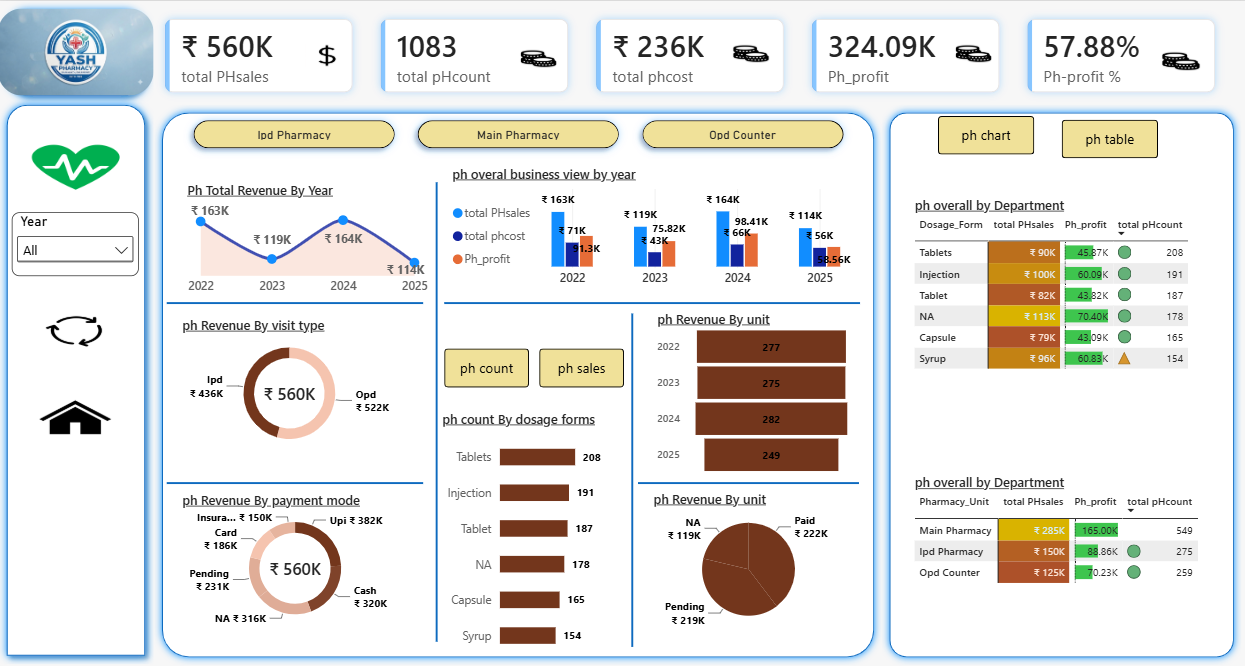

The page's visual inventory and layout, read from the dashboard file:
{"tool":"powerbi","page":{"name":"Pharmacy","canvas":[1300,700],"ordinal":1},"visuals":[{"type":"shape","box":[0,98.8,161.9,590.5],"z":0},{"type":"shape","box":[0,0,161.9,107.2],"z":1000},{"type":"shape","box":[161.9,107.1,756,582.1],"z":2000},{"type":"shape","box":[917.9,107.1,373.8,582.1],"z":3000},{"type":"cardVisual","fields":{"Data":["Pharmacy_Sales.total PHsales","Pharmacy_Sales.total pHcount","Pharmacy_Sales.total phcost","Pharmacy_Sales.Ph_profit","Pharmacy_Sales.Ph-profit %"]},"box":[161.9,8.3,1117.9,98.8],"z":4000},{"type":"image","box":[14.3,107.1,132.1,129.8],"z":6000},{"type":"image","box":[36.9,394,86.9,77.4],"z":7000},{"type":"image","box":[36.9,303.6,86.9,77.4],"z":8000},{"type":"image","box":[0,8.3,161.9,90.5],"z":9000},{"type":"slicer","fields":{"Values":["calendar_table.year"]},"box":[14.3,219,132.1,66.7],"z":10000},{"type":"lineChart","title":"Ph Total Revenue By Year","fields":{"Category":["calendar_table.Date.Variation.Date Hierarchy.Year","calendar_table.Date.Variation.Date Hierarchy.Month","calendar_table.Date.Variation.Date Hierarchy.Day"],"Y":["Pharmacy_Sales.total PHsales"]},"box":[181,172.6,282.1,152.4],"z":11000},{"type":"donutChart","title":"ph Revenue By visit type","fields":{"Category":["Hosp_sales.Visit_Type"],"Y":["Pharmacy_Sales.total PHsales"]},"box":[175,313.1,254.8,172.6],"z":12000},{"type":"donutChart","title":"ph Revenue By payment mode","fields":{"Category":["Hosp_sales.Payment_Mode"],"Y":["Pharmacy_Sales.total PHsales"]},"box":[175,495.2,266.7,172.6],"z":13000},{"type":"clusteredColumnChart","title":"ph overal business view by year","fields":{"Category":["calendar_table.Date.Variation.Date Hierarchy.Year"],"Y":["Pharmacy_Sales.total PHsales","Pharmacy_Sales.total phcost","Pharmacy_Sales.Ph_profit"]},"box":[456,156,447.6,160.7],"z":14000},{"type":"funnel","title":"ph Revenue By unit","fields":{"Category":["Pharmacy_Sales.Year"],"Y":["Pharmacy_Sales.total pHcount"]},"box":[669,306,234.5,201.2],"z":15000},{"type":"pieChart","title":"ph Revenue By unit","fields":{"Category":["Pharmacy_Sales.Payment_Status"],"Y":["Pharmacy_Sales.total PHsales"]},"box":[665.5,494,229.8,177.4],"z":16000},{"type":"barChart","title":"ph count By dosage forms","fields":{"Category":["Pharmacy_Sales.Dosage_Form"],"Y":["Pharmacy_Sales.total pHcount"]},"box":[445.2,410.7,204.8,289.3],"z":17000},{"type":"pivotTable","title":"ph overall by Department","fields":{"Rows":["Pharmacy_Sales.Dosage_Form"],"Values":["Pharmacy_Sales.total PHsales","Pharmacy_Sales.Ph_profit","Pharmacy_Sales.total pHcount"]},"box":[935.7,188.1,338.1,248.8],"z":19000},{"type":"pivotTable","title":"ph overall by Department","fields":{"Rows":["Pharmacy_Sales.Pharmacy_Unit"],"Values":["Pharmacy_Sales.total PHsales","Pharmacy_Sales.Ph_profit","Pharmacy_Sales.total pHcount"]},"box":[935.7,476.2,338.1,150],"z":20000},{"type":"actionButton","box":[463.6,361,88.1,40.5],"z":21000},{"type":"actionButton","box":[561.9,360.7,88.1,40.5],"z":22000},{"type":"shape","box":[175,295.2,266.7,38.1],"z":23000},{"type":"shape","box":[175,482.1,266.7,38.1],"z":24000},{"type":"shape","box":[440.5,188.1,31,477.4],"z":25000},{"type":"shape","box":[635.7,325,45.2,346.4],"z":26000},{"type":"shape","box":[665.5,482.1,229.8,38.1],"z":27000},{"type":"shape","box":[463.1,295.2,432.1,38.1],"z":28000},{"type":"image","box":[319,30,44,53.6],"z":29000},{"type":"image","box":[759.5,27.4,44,51.2],"z":30000},{"type":"image","box":[1204.8,34.5,46.4,51.2],"z":31000},{"type":"image","box":[539.3,32.1,44,51.2],"z":32000},{"type":"image","box":[990.5,27.4,44,51.2],"z":33000},{"type":"advancedSlicerVisual","fields":{"Values":["Pharmacy_Sales.Pharmacy_Unit"]},"box":[191.7,113.1,697.6,51.2],"z":35000},{"type":"actionButton","box":[977,119,100,40],"z":35001},{"type":"actionButton","box":[1105.2,123.4,100,40],"z":35002}]}

Visuals, with their boxes in screenshot pixels (x1, y1, x2, y2), scaled from the page's 1300x700 canvas onto the 1245x666 screenshot:
shape: [left=0, top=94, right=155, bottom=656]
shape: [left=0, top=0, right=155, bottom=102]
shape: [left=155, top=102, right=879, bottom=656]
shape: [left=879, top=102, right=1237, bottom=656]
cardVisual - Pharmacy_Sales.total PHsales x Pharmacy_Sales.total pHcount: [left=155, top=8, right=1226, bottom=102]
image: [left=14, top=102, right=140, bottom=225]
image: [left=35, top=375, right=119, bottom=449]
image: [left=35, top=289, right=119, bottom=362]
image: [left=0, top=8, right=155, bottom=94]
slicer - calendar_table.year: [left=14, top=208, right=140, bottom=272]
"Ph Total Revenue By Year" lineChart: [left=173, top=164, right=444, bottom=309]
"ph Revenue By visit type" donutChart: [left=168, top=298, right=412, bottom=462]
"ph Revenue By payment mode" donutChart: [left=168, top=471, right=423, bottom=635]
"ph overal business view by year" clusteredColumnChart: [left=437, top=148, right=865, bottom=301]
"ph Revenue By unit" funnel: [left=641, top=291, right=865, bottom=483]
"ph Revenue By unit" pieChart: [left=637, top=470, right=857, bottom=639]
"ph count By dosage forms" barChart: [left=426, top=391, right=622, bottom=665]
"ph overall by Department" pivotTable: [left=896, top=179, right=1220, bottom=416]
"ph overall by Department" pivotTable: [left=896, top=453, right=1220, bottom=596]
actionButton: [left=444, top=343, right=528, bottom=382]
actionButton: [left=538, top=343, right=622, bottom=382]
shape: [left=168, top=281, right=423, bottom=317]
shape: [left=168, top=459, right=423, bottom=495]
shape: [left=422, top=179, right=452, bottom=633]
shape: [left=609, top=309, right=652, bottom=639]
shape: [left=637, top=459, right=857, bottom=495]
shape: [left=444, top=281, right=857, bottom=317]
image: [left=306, top=29, right=348, bottom=80]
image: [left=727, top=26, right=770, bottom=75]
image: [left=1154, top=33, right=1198, bottom=82]
image: [left=516, top=31, right=559, bottom=79]
image: [left=949, top=26, right=991, bottom=75]
advancedSlicerVisual - Pharmacy_Sales.Pharmacy_Unit: [left=184, top=108, right=852, bottom=156]
actionButton: [left=936, top=113, right=1031, bottom=151]
actionButton: [left=1058, top=117, right=1154, bottom=155]
